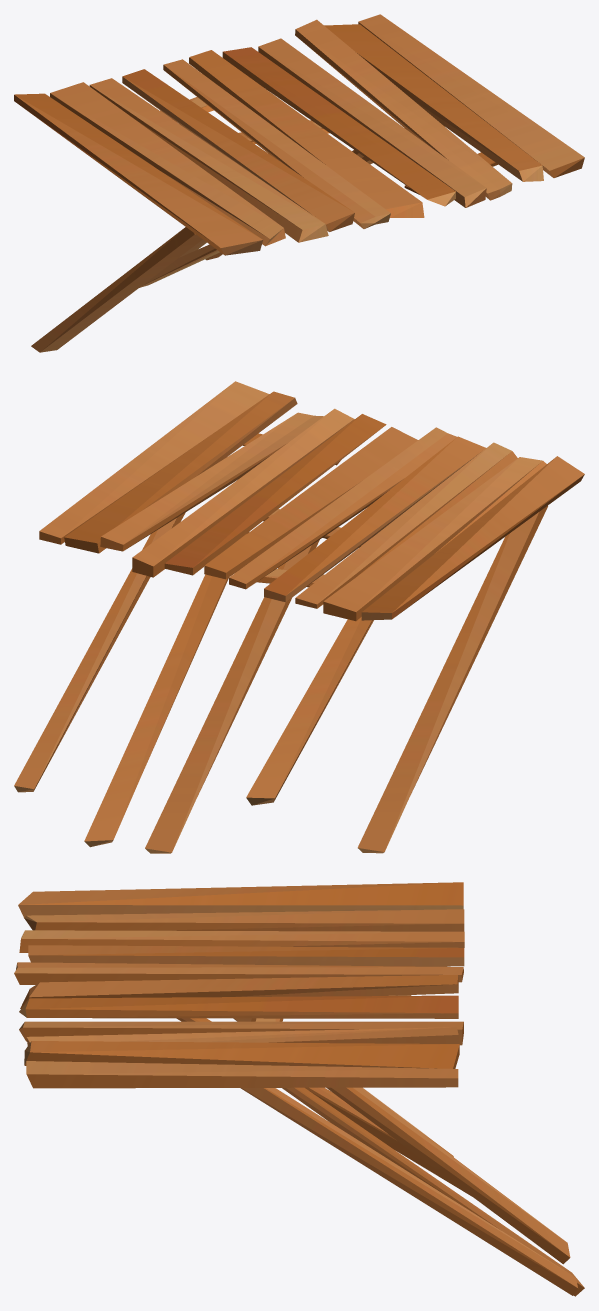
File: bridge009.gltf
The picture shows the model from 3 angles, top to bottom: view 1: azimuth 30°, elevation 25°; view 2: azimuth 150°, elevation 25°; view 3: azimuth 270°, elevation 25°; orthographic projection. The views are drawn at different scales.
Parts seen in each view (by area): view 1: node_bridge009_-138914; view 2: node_bridge009_-138914; view 3: node_bridge009_-138914.
Part boxes in pixels (left/top/right/bottom): node_bridge009_-138914: left=14, top=14, right=584, bottom=352; node_bridge009_-138914: left=14, top=381, right=584, bottom=853; node_bridge009_-138914: left=14, top=882, right=584, bottom=1296.
Size of what is drawn, in the model's own units: 4.25 by 2.97 by 5.4.
Materials: 1 (1 with a texture image).
